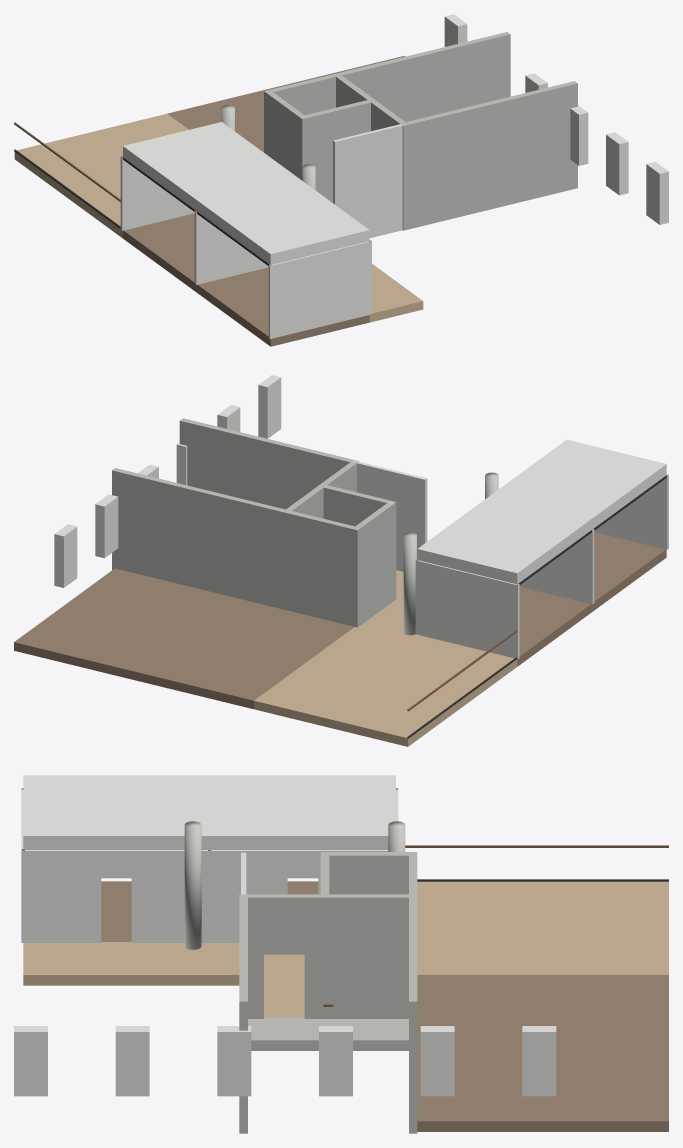
Rendered from SM_Bygg_Helgasetr_P2_O_MN.fbx.
The picture shows the model from 3 angles, top to bottom: view 1: azimuth 30°, elevation 25°; view 2: azimuth 150°, elevation 25°; view 3: azimuth 270°, elevation 25°; orthographic projection. The views are drawn at different scales.
Visible parts, largest first — view 1: SM_Bygg_Helgasetr_P2_O_MN; view 2: SM_Bygg_Helgasetr_P2_O_MN; view 3: SM_Bygg_Helgasetr_P2_O_MN.
Boxes of the visible parts, x1,y1,x2,y2 form: SM_Bygg_Helgasetr_P2_O_MN: (14, 14, 668, 346); SM_Bygg_Helgasetr_P2_O_MN: (14, 375, 668, 746); SM_Bygg_Helgasetr_P2_O_MN: (14, 775, 668, 1133).
Size of the model in its own units: 19.32 by 17.01 by 4.3.
